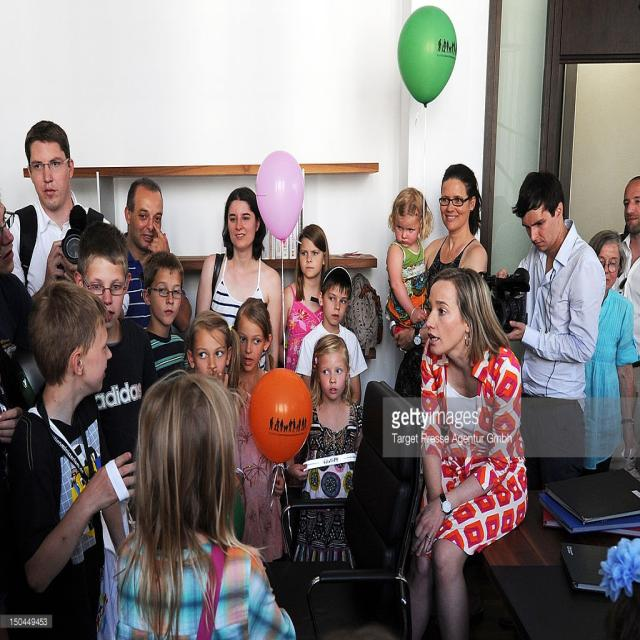body: (0, 276, 144, 639), (111, 363, 300, 639), (404, 263, 530, 639), (492, 167, 607, 490), (70, 220, 160, 536), (391, 162, 489, 410), (6, 116, 116, 316), (226, 296, 288, 609), (284, 333, 366, 566), (192, 185, 284, 376), (184, 308, 248, 546), (579, 229, 640, 475), (118, 176, 194, 346), (296, 263, 366, 404), (607, 175, 640, 474), (274, 222, 332, 374), (384, 186, 436, 353), (6, 174, 62, 297), (139, 250, 192, 377)
